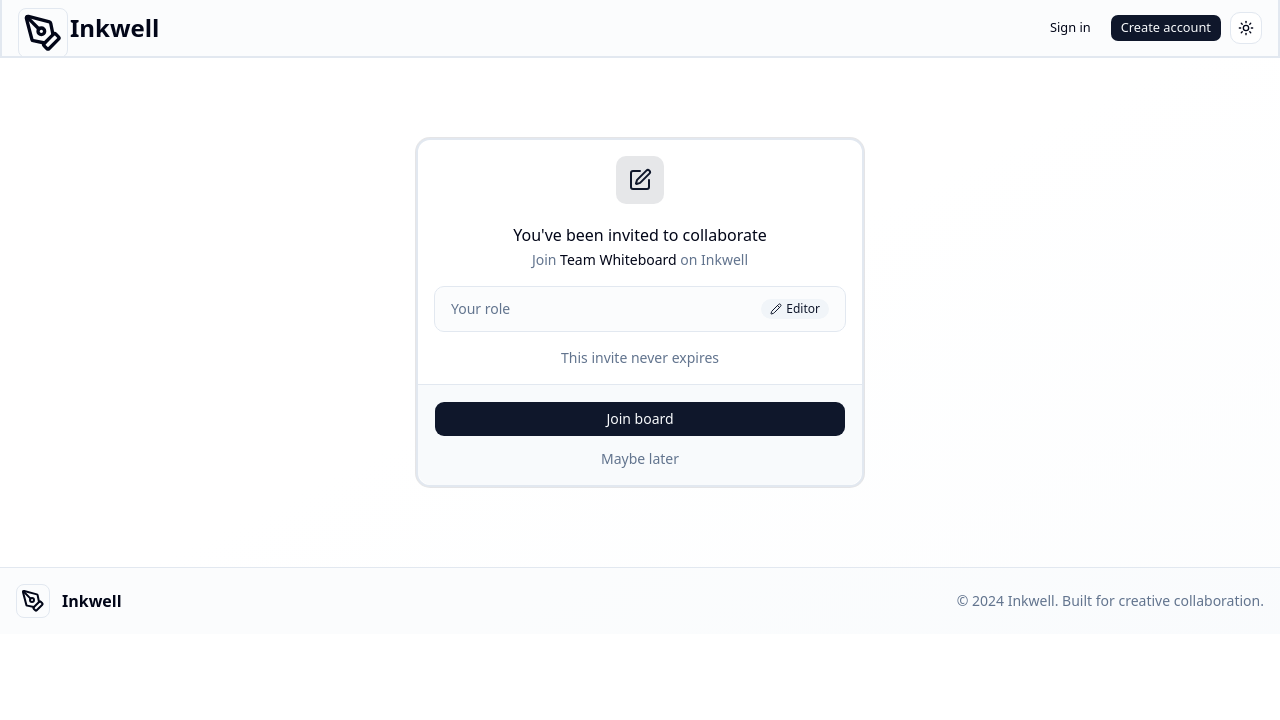
Test case: Invite Page › shows an error toast when joining fails
Click the button "Join board": coordinates (640, 419) [434,401,846,437]
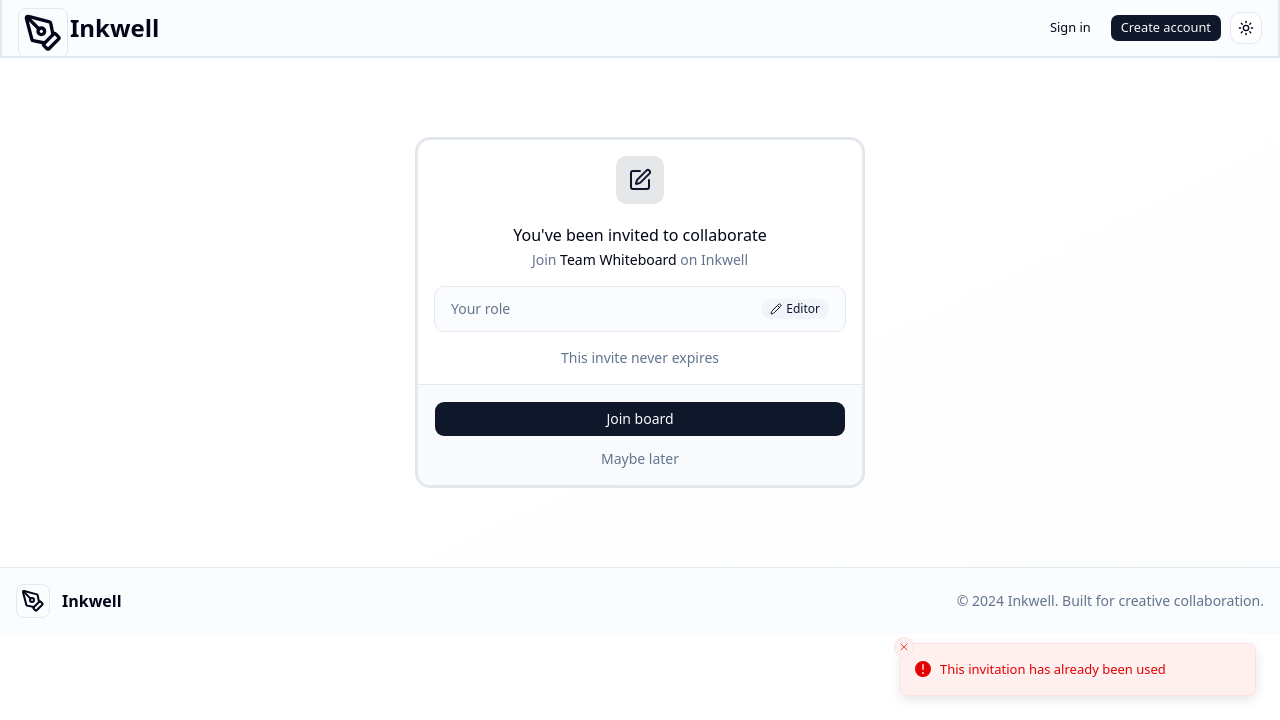
Expected: the text "This invitation has already been used" is shown, [940,660,1166,679]
